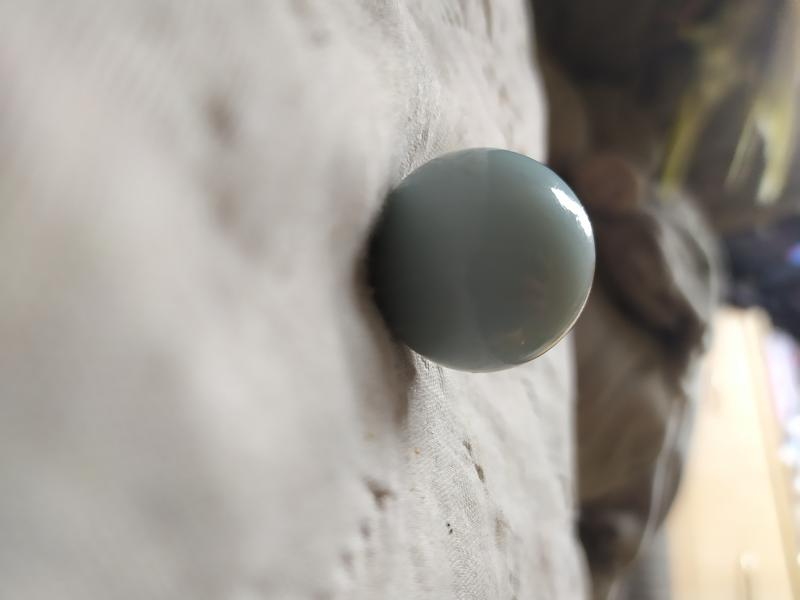Warning: (364, 139, 601, 378)
